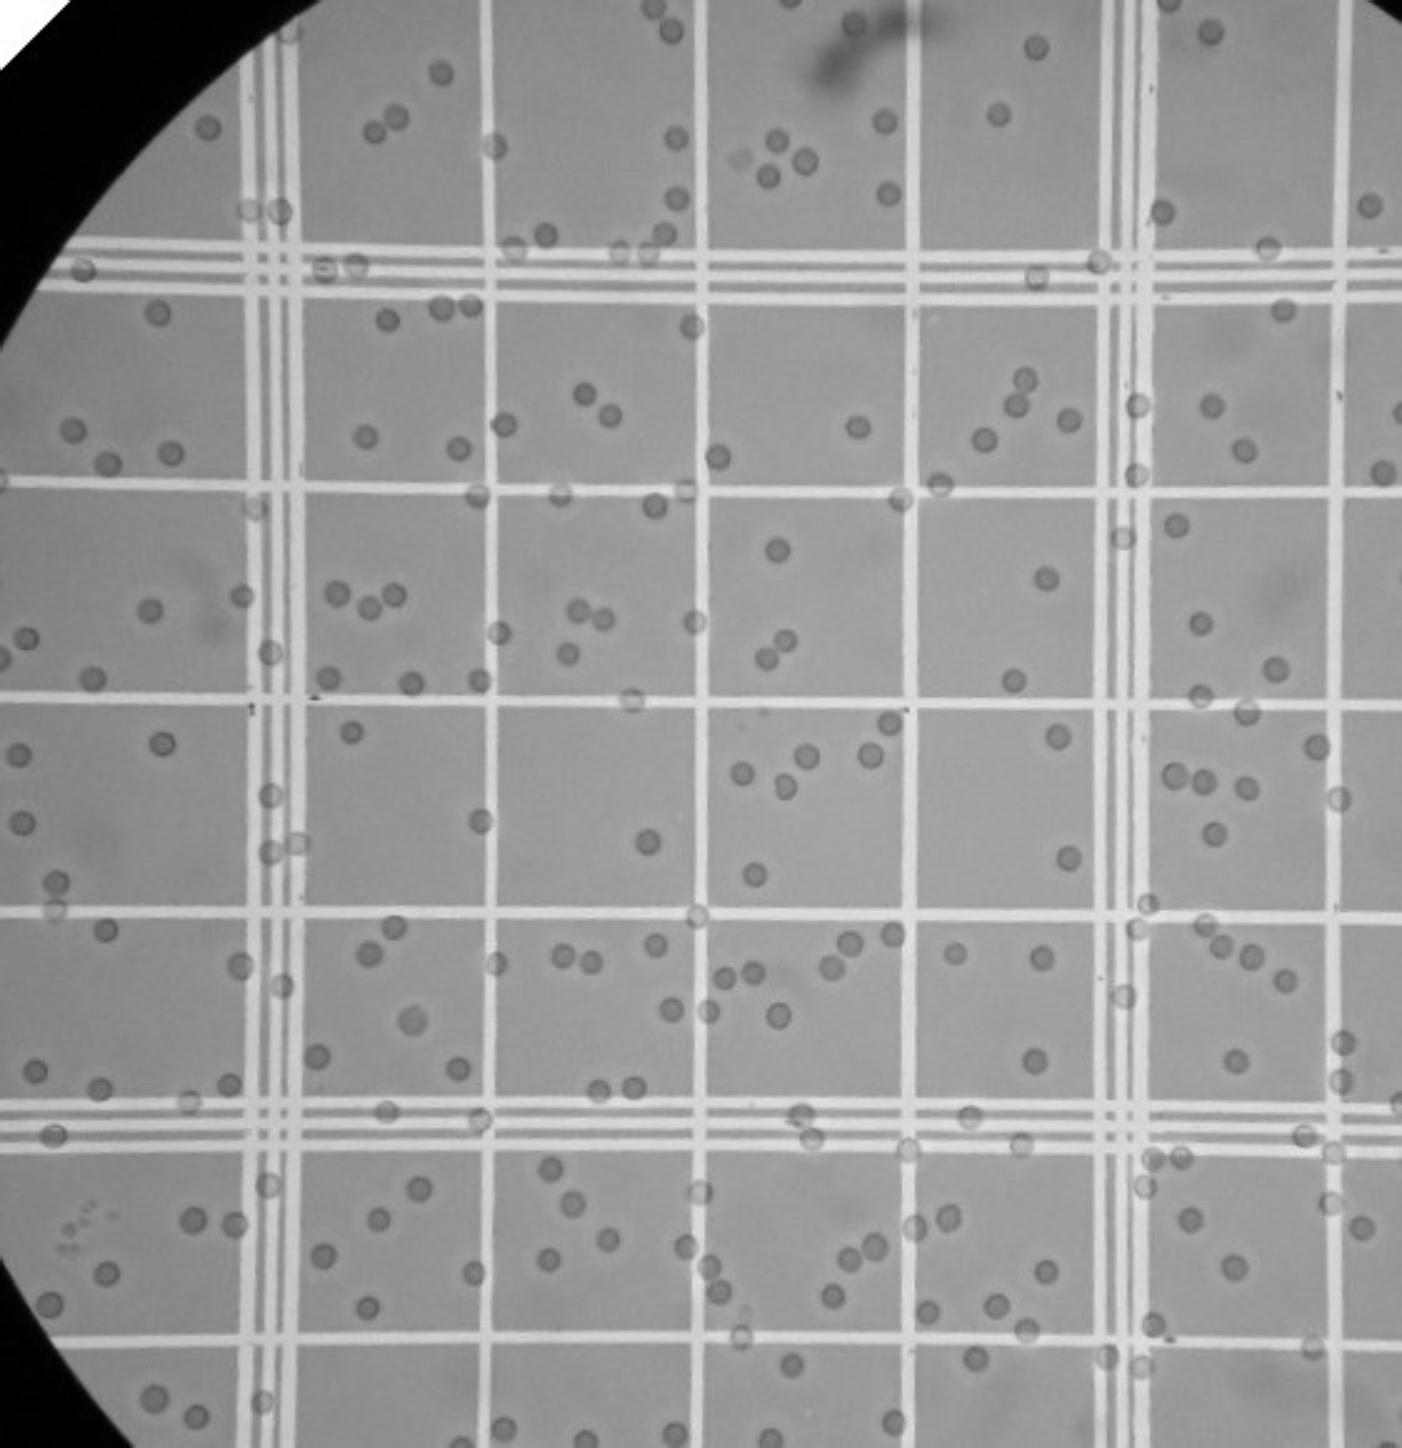cell: (396, 1005, 429, 1038), (790, 145, 821, 178), (479, 131, 511, 162), (191, 112, 222, 144), (138, 1383, 169, 1414), (181, 1401, 212, 1432), (234, 195, 264, 228), (92, 449, 124, 478), (793, 740, 823, 772), (1009, 365, 1041, 394), (1161, 760, 1191, 793), (861, 1231, 890, 1264), (870, 105, 900, 136), (147, 728, 178, 758), (41, 868, 72, 897), (178, 1205, 210, 1235), (1233, 696, 1262, 727), (155, 440, 188, 468), (265, 198, 295, 228), (309, 255, 339, 284), (142, 299, 172, 328), (427, 293, 457, 323), (839, 8, 869, 37), (79, 665, 109, 694), (35, 1290, 65, 1320), (226, 952, 256, 981), (1198, 16, 1227, 45), (1032, 564, 1062, 593), (1000, 666, 1030, 696), (1261, 654, 1291, 684), (1302, 732, 1332, 761), (1324, 785, 1354, 814), (1011, 1315, 1041, 1345), (383, 101, 411, 132), (770, 627, 801, 655), (1177, 1205, 1205, 1236), (57, 416, 89, 443), (341, 251, 370, 281), (501, 234, 529, 264), (874, 180, 904, 208), (570, 379, 599, 409), (678, 312, 706, 341), (228, 582, 257, 610), (255, 1171, 285, 1200), (323, 578, 352, 608), (354, 940, 384, 968), (779, 1350, 807, 1379), (1022, 34, 1051, 62), (1370, 459, 1399, 487), (934, 1204, 964, 1232), (658, 16, 685, 47), (489, 411, 520, 438), (308, 1242, 339, 1270), (636, 238, 661, 271), (463, 481, 491, 509), (137, 596, 166, 624), (216, 1070, 244, 1099), (221, 1210, 250, 1239), (405, 1175, 433, 1204), (618, 684, 647, 712), (634, 827, 662, 856), (764, 1002, 793, 1030), (687, 1179, 715, 1208), (788, 1102, 816, 1130), (1270, 296, 1299, 325), (1055, 844, 1084, 873), (1221, 1254, 1249, 1283), (983, 1293, 1011, 1321), (350, 423, 380, 450), (12, 624, 41, 652), (4, 741, 34, 768), (85, 1076, 115, 1103), (303, 1045, 332, 1072), (372, 1098, 402, 1125), (559, 1189, 586, 1219), (729, 758, 757, 787), (773, 772, 801, 802), (1357, 193, 1386, 220), (876, 708, 903, 738), (1045, 721, 1072, 751), (901, 1211, 929, 1241), (6, 811, 38, 836), (38, 1123, 69, 1149), (1317, 1191, 1348, 1217), (427, 59, 455, 87), (642, 491, 669, 520), (705, 443, 733, 471), (69, 257, 97, 284), (21, 1058, 49, 1085), (93, 1261, 122, 1288), (257, 838, 285, 866), (257, 782, 285, 811), (285, 830, 312, 858), (257, 639, 285, 667), (491, 1414, 519, 1443), (468, 1107, 495, 1135), (537, 1156, 565, 1183), (468, 808, 495, 836), (764, 537, 793, 564), (660, 995, 687, 1024), (729, 1324, 757, 1352), (1150, 198, 1177, 226), (845, 414, 873, 441), (927, 472, 956, 499), (1191, 767, 1218, 795), (1028, 945, 1055, 974), (1238, 941, 1265, 970), (913, 1299, 942, 1326), (533, 220, 559, 250), (821, 1281, 847, 1311), (1020, 1049, 1050, 1074), (361, 119, 388, 146), (375, 306, 402, 334), (458, 292, 485, 319), (764, 127, 792, 154), (338, 719, 365, 746), (621, 1074, 648, 1102), (467, 667, 494, 694), (682, 609, 709, 636), (742, 861, 770, 888), (684, 902, 711, 930), (1125, 392, 1152, 419), (1165, 512, 1192, 539), (817, 955, 845, 983), (836, 930, 863, 957), (1222, 1047, 1249, 1074), (1328, 1068, 1355, 1095), (1139, 1145, 1167, 1173), (962, 1345, 989, 1372), (607, 239, 632, 268), (663, 185, 689, 213), (663, 124, 689, 153), (550, 941, 576, 970), (696, 1255, 724, 1281), (970, 427, 998, 452), (1055, 409, 1084, 434), (1233, 437, 1258, 465), (1124, 462, 1152, 487), (857, 740, 883, 768), (1189, 683, 1214, 711), (1330, 1030, 1358, 1056), (1141, 1311, 1167, 1339), (652, 220, 678, 247), (445, 436, 472, 462), (41, 899, 69, 924), (93, 917, 119, 944), (316, 665, 341, 692), (382, 580, 407, 608), (382, 914, 407, 941), (354, 1295, 382, 1321), (365, 1208, 392, 1233), (445, 1056, 471, 1083), (565, 599, 592, 624), (754, 645, 780, 672), (1024, 262, 1050, 290), (1086, 248, 1112, 275), (1200, 393, 1227, 419), (1112, 526, 1139, 552), (879, 921, 907, 946), (1209, 933, 1235, 961), (1273, 967, 1299, 994), (1129, 1354, 1156, 1379), (1095, 1343, 1121, 1370), (881, 1411, 908, 1436), (579, 948, 604, 976), (485, 621, 513, 645), (1348, 1215, 1376, 1240), (1035, 1258, 1059, 1286), (757, 164, 782, 190), (598, 402, 623, 428), (250, 1389, 275, 1414), (176, 1089, 202, 1114), (269, 974, 295, 999), (535, 1248, 561, 1273), (596, 1227, 622, 1253), (663, 1422, 689, 1448), (591, 606, 617, 632), (642, 933, 667, 959), (713, 966, 739, 992), (741, 961, 767, 986), (706, 1279, 732, 1304), (838, 1248, 864, 1273), (1235, 776, 1261, 802), (896, 1136, 922, 1162), (957, 1105, 983, 1131), (1169, 1144, 1195, 1170), (755, 1427, 788, 1448), (243, 496, 268, 524), (548, 481, 573, 508), (462, 1259, 486, 1286), (587, 1077, 612, 1104), (484, 950, 508, 977), (986, 102, 1013, 127), (1256, 237, 1283, 261), (1133, 1176, 1160, 1201), (675, 476, 698, 504), (398, 671, 424, 696), (801, 1127, 826, 1152), (889, 487, 914, 512), (1189, 612, 1214, 636), (1202, 822, 1227, 847), (1111, 983, 1136, 1008), (1010, 1133, 1035, 1158), (1292, 1123, 1318, 1148), (1322, 1142, 1348, 1166), (1301, 1336, 1326, 1361), (1002, 394, 1030, 418), (357, 596, 382, 621), (674, 1235, 698, 1259), (1192, 913, 1217, 937), (639, 1, 670, 21), (572, 1429, 601, 1448), (697, 999, 720, 1024), (556, 641, 579, 665), (1137, 893, 1160, 917), (943, 942, 967, 964), (1127, 918, 1149, 942), (1155, 1, 1185, 17), (1, 641, 16, 674), (1390, 1089, 1402, 1120), (448, 1436, 476, 1448), (1392, 399, 1402, 424)
